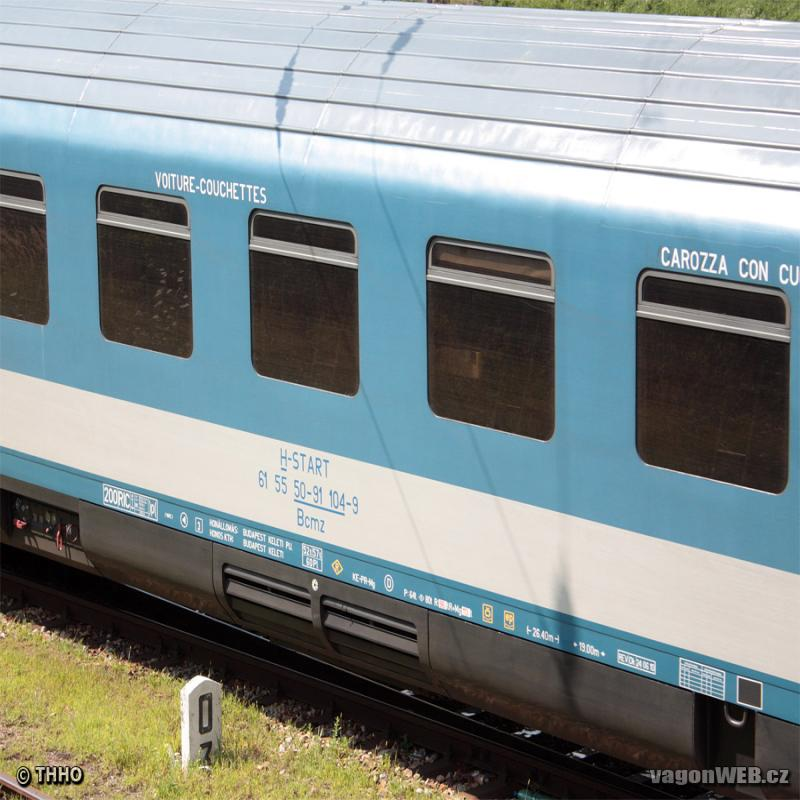train: (2, 1, 800, 797)
